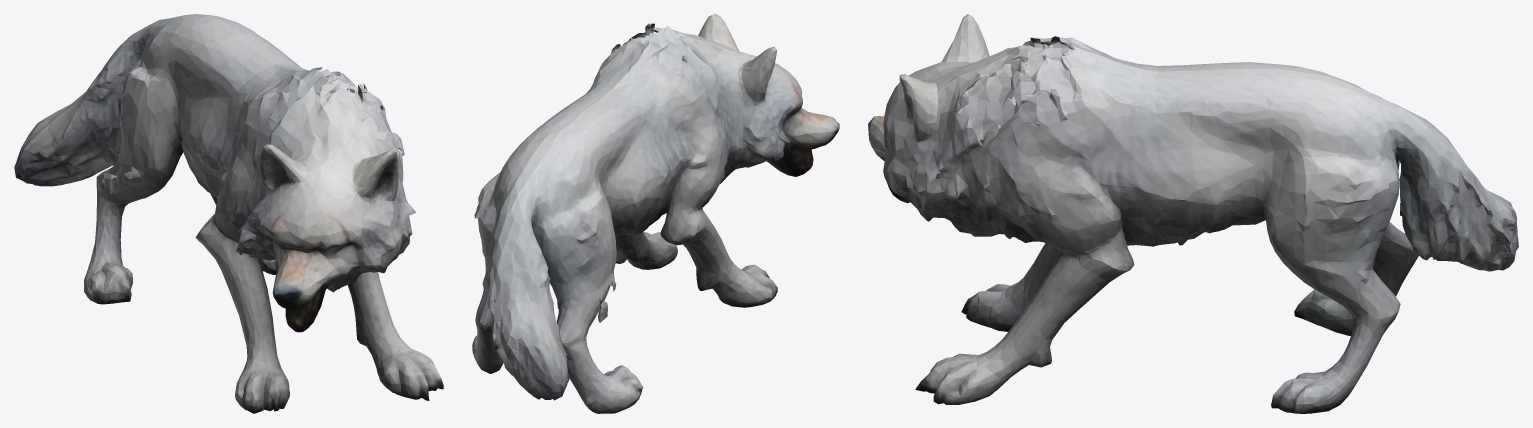
Rendered from grand-loup.glb.
3 renders of one model, left to right at view 1: azimuth 30°, elevation 25°; view 2: azimuth 150°, elevation 25°; view 3: azimuth 270°, elevation 25°, orthographic. The views are drawn at different scales.
Visible parts, largest first — view 1: world; view 2: world; view 3: world.
Part boxes in pixels (left/top/right/bottom): world: left=14, top=14, right=443, bottom=413; world: left=472, top=14, right=839, bottom=413; world: left=868, top=14, right=1518, bottom=413.
Bounding box in the file's own units: 0.424 × 0.5721 × 0.9981.
1 material, 1 textured.
